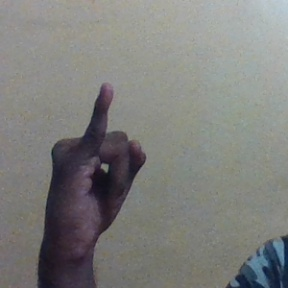I: (49, 79, 149, 256)
